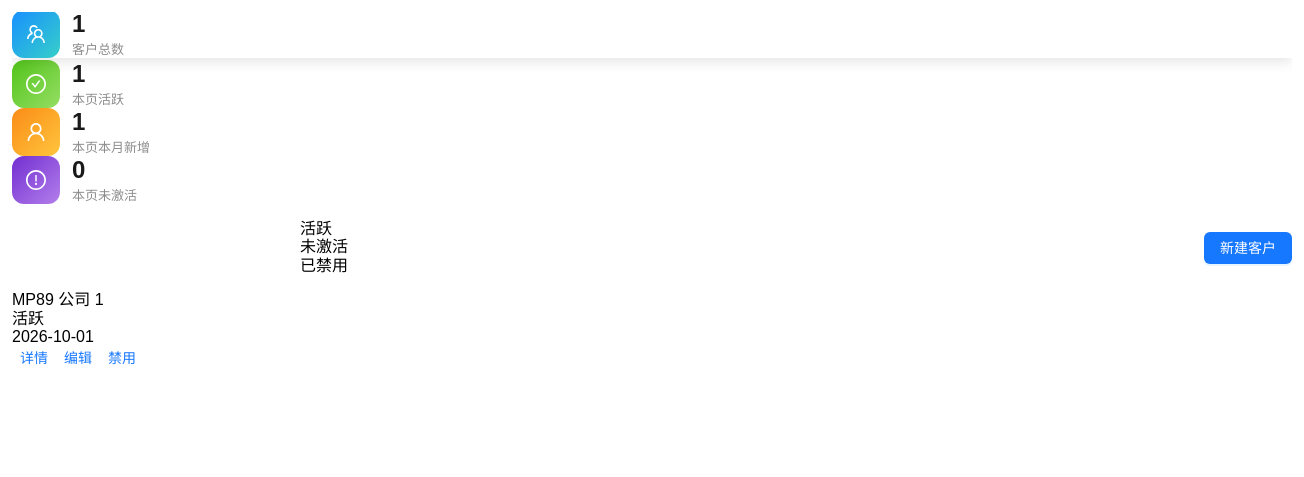
it: 新建客户的那条路真的能走到 › 筛选栏右侧也有一颗新建客户
What coordinates should you click on to do the following:
click the button "新建客户"
I would click on:
 (1248, 248)
Its box is top-left (1204, 232), bottom-right (1292, 264).
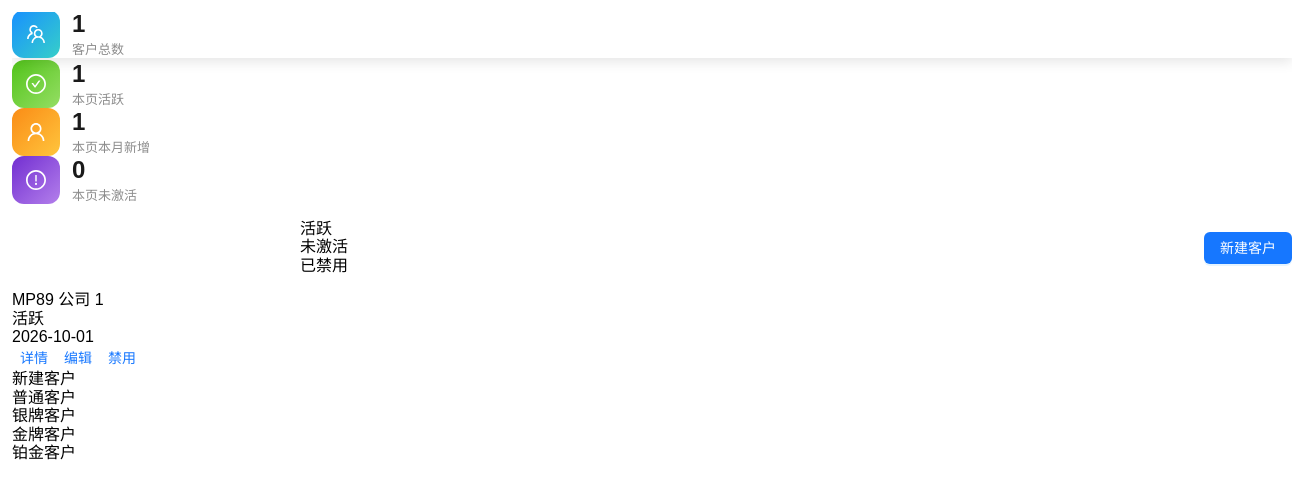
Expected: the text with class "modal-title" reads "新建客户", top-left (12, 370), bottom-right (76, 387)
